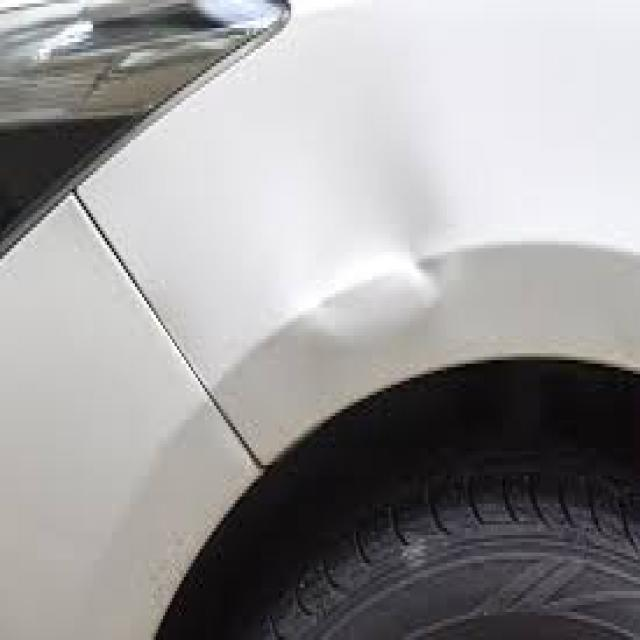minor: (284, 80, 513, 402)
